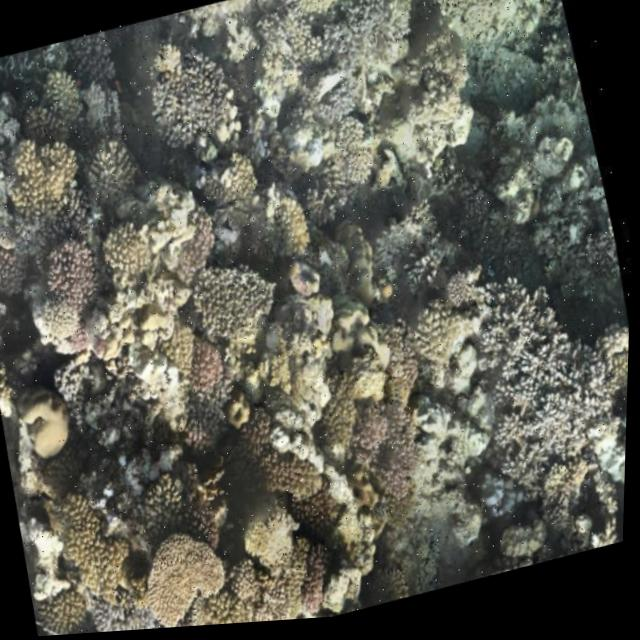Bleached Coral: (465, 269, 633, 483), (307, 0, 416, 76), (123, 316, 200, 407), (0, 189, 88, 265), (74, 66, 144, 148), (579, 412, 630, 519), (288, 113, 351, 190), (471, 466, 539, 534), (85, 588, 169, 635), (312, 82, 371, 134), (212, 202, 250, 256)
Healthy Coral: (140, 484, 270, 629), (345, 385, 449, 524), (59, 476, 140, 597), (197, 260, 286, 346), (276, 433, 346, 516), (93, 225, 155, 292)
